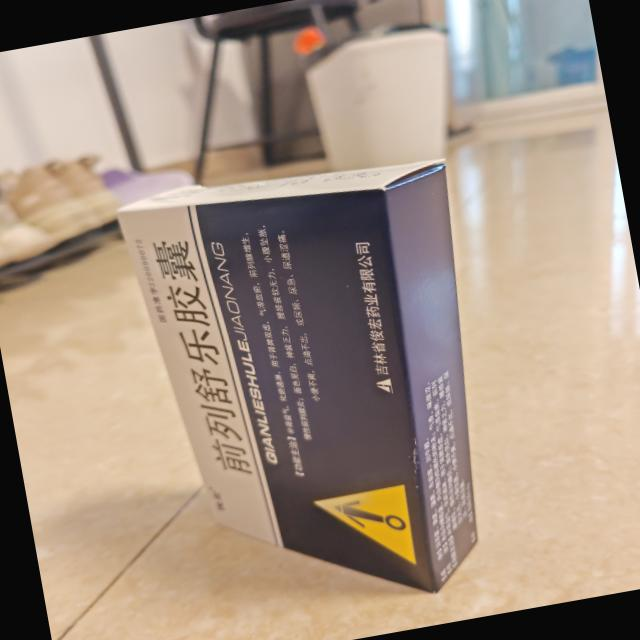box: (103, 133, 530, 640)
